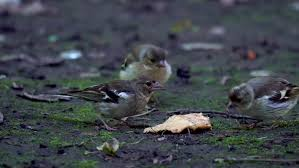home_sparrow: (45, 74, 167, 127), (221, 72, 299, 139), (111, 44, 177, 86)
